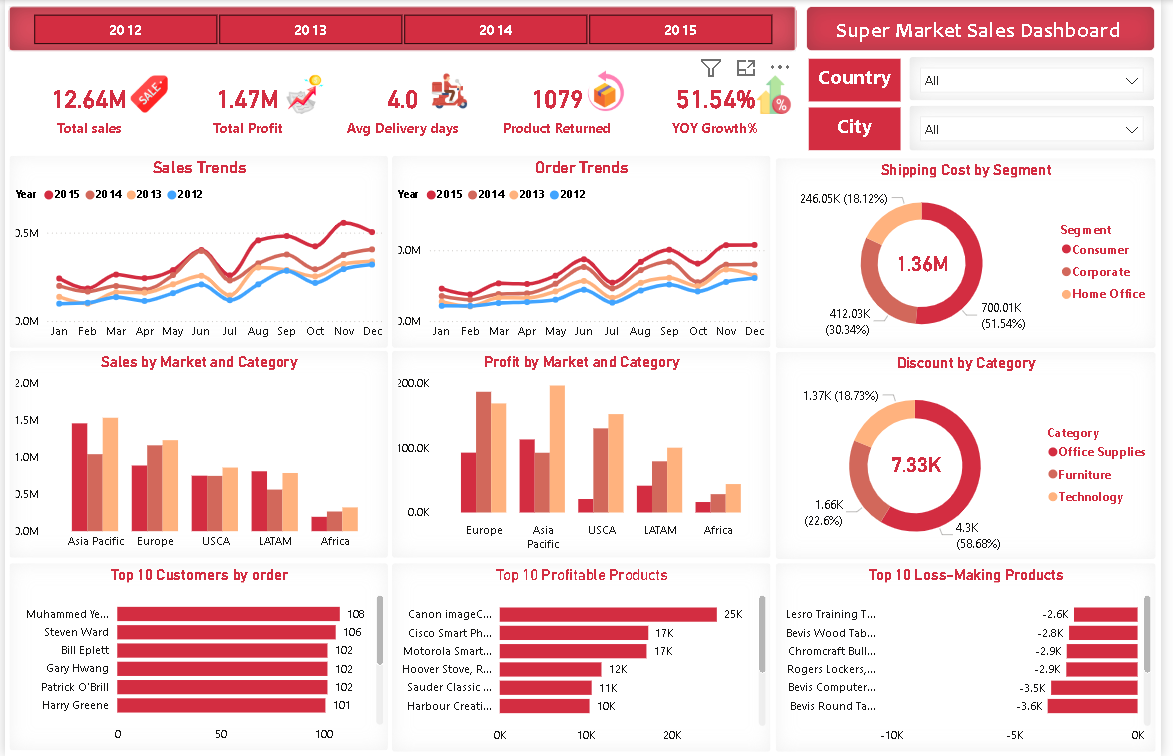

What the dashboard file says about the page in this screenshot:
{"tool":"powerbi","page":{"name":"Sales analysis","canvas":[1300,850],"ordinal":0},"visuals":[{"type":"slicer","fields":{"Values":["Orders.Order Date.Variation.Date Hierarchy.Year"]},"box":[4.2,7,885.4,50.6],"z":0},{"type":"clusteredColumnChart","title":"Sales by Market and Category","fields":{"Category":["Orders.Market"],"Y":["Sum(Orders.Sales)"],"Series":["Orders.Category"]},"box":[4.2,393.5,427.3,234.7],"z":1000},{"type":"clusteredBarChart","title":"Top 10 Profitable Products","fields":{"Y":["Sum(Orders.Profit)"],"Category":["Orders.Product Name"]},"box":[434.3,632.4,427.3,213.6],"z":2000},{"type":"clusteredBarChart","title":"Top 10 Loss-Making Products","fields":{"Y":["Sum(Orders.Profit)"],"Category":["Orders.Product Name"]},"box":[865.7,632.4,428.7,213.6],"z":3000},{"type":"slicer","fields":{"Values":["Orders.City"]},"box":[1016.1,118.1,276.9,52],"z":4000},{"type":"slicer","fields":{"Values":["Orders.Country"]},"box":[1016.1,63.2,276.9,50.6],"z":5000},{"type":"donutChart","title":"Shipping Cost by Segment","fields":{"Category":["Orders.Segment"],"Y":["Sum(Orders.Shipping Cost)"]},"box":[865.7,177.1,428.7,215],"z":6000},{"type":"barChart","title":"Top 10 Customers by order","fields":{"Category":["Orders.Customer Name"],"Y":["CountNonNull(Orders.Order ID)"]},"box":[4.2,632.4,427.3,212.2],"z":7000},{"type":"clusteredColumnChart","title":"Profit by Market and Category","fields":{"Category":["Orders.Market"],"Series":["Orders.Category"],"Y":["Orders.Total profitt"]},"box":[434.3,393.5,427.3,234.7],"z":8000},{"type":"donutChart","title":"Discount by Category","fields":{"Category":["Orders.Category"],"Y":["Sum(Orders.Discount)"]},"box":[866.1,394.9,428.7,234.7],"z":8000,"group":"g1"},{"type":"lineChart","title":"Sales Trends","fields":{"Category":["Orders.Order Date.Variation.Date Hierarchy.Year","Orders.month"],"Y":["Orders.Total saless"],"Series":["Orders.Order Date.Variation.Date Hierarchy.Year"]},"box":[4.2,174.3,427.3,217.8],"z":9000},{"type":"textbox","box":[900.9,7,392.1,50.6],"z":10000},{"type":"card","fields":{"Values":["Orders.Total sales"]},"box":[4.1,74.8,180.9,91.1],"z":11000,"group":"g2"},{"type":"card","fields":{"Values":["Avg(Orders.Delivery days)"]},"box":[360.5,74.8,172.8,91.1],"z":11000,"group":"g4"},{"type":"card","fields":{"Values":["Sum(Orders.Shipping Cost)"]},"box":[986.6,269.8,91.4,52],"z":11000},{"type":"card","fields":{"Values":["Orders.Total Profit"]},"box":[186.4,74.8,172.8,91.1],"z":12000,"group":"g3"},{"type":"lineChart","title":"Order Trends","fields":{"Category":["Orders.Order Date.Variation.Date Hierarchy.Year","Orders.month"],"Y":["CountNonNull(Orders.Order ID)"],"Series":["Orders.Order Date.Variation.Date Hierarchy.Year"]},"box":[434.3,174.3,427.3,217.8],"z":12000},{"type":"group","id":"g1","title":"Group 2","box":[866.1,394.9,428.7,234.7],"z":13000},{"type":"textbox","box":[903.3,66.7,103.4,47.6],"z":14000},{"type":"card","fields":{"Values":["Sum(Returns.Product Returned)"]},"box":[534.6,74.8,172.8,91.1],"z":14000,"group":"g5"},{"type":"card","fields":{"Values":["Orders.YOY Growth%"]},"box":[708.8,74.8,180.9,91.1],"z":15000,"group":"g6"},{"type":"textbox","box":[903.3,121.1,103.4,47.6],"z":15000},{"type":"card","fields":{"Values":["Sum(Orders.Discount)"]},"box":[981.1,492.1,88.5,60.4],"z":15000,"group":"g1"},{"type":"group","id":"g2","title":"Group 1","box":[4.1,74.8,190.3,91.1],"z":16000},{"type":"group","id":"g3","title":"Group 3","box":[186.4,74.8,186.4,91.1],"z":17000},{"type":"group","id":"g4","title":"Group 4","box":[360.5,74.8,182.3,91.1],"z":18000},{"type":"group","id":"g5","title":"Group 5","box":[534.6,74.8,176.8,91.1],"z":19000},{"type":"group","id":"g6","title":"Group 6","box":[708.8,74.8,192.1,91.1],"z":20000},{"type":"image","box":[302,76.2,70.7,61.2],"z":20000,"group":"g3"},{"type":"image","box":[642.1,74.8,69.4,55.8],"z":21000,"group":"g5"},{"type":"image","box":[129.1,80.5,65.3,51.7],"z":21000,"group":"g2"},{"type":"image","box":[830.2,80.5,70.7,53.1],"z":22000,"group":"g6"},{"type":"image","box":[455.7,76.2,87.1,53.1],"z":23000,"group":"g4"}]}

Visuals, with their boxes in screenshot pixels (x1, y1, x2, y2), scaled from the page's 1300x850 canvas onto the 1173x756 screenshot:
slicer - Orders.Order Date.Variation.Date Hierarchy.Year: (x1=4, y1=6, x2=803, y2=51)
"Sales by Market and Category" clusteredColumnChart: (x1=4, y1=350, x2=389, y2=559)
"Top 10 Profitable Products" clusteredBarChart: (x1=392, y1=562, x2=777, y2=752)
"Top 10 Loss-Making Products" clusteredBarChart: (x1=781, y1=562, x2=1168, y2=752)
slicer - Orders.City: (x1=917, y1=105, x2=1167, y2=151)
slicer - Orders.Country: (x1=917, y1=56, x2=1167, y2=101)
"Shipping Cost by Segment" donutChart: (x1=781, y1=158, x2=1168, y2=349)
"Top 10 Customers by order" barChart: (x1=4, y1=562, x2=389, y2=751)
"Profit by Market and Category" clusteredColumnChart: (x1=392, y1=350, x2=777, y2=559)
"Discount by Category" donutChart: (x1=781, y1=351, x2=1168, y2=560)
"Sales Trends" lineChart: (x1=4, y1=155, x2=389, y2=349)
textbox: (x1=813, y1=6, x2=1167, y2=51)
card - Orders.Total sales: (x1=4, y1=67, x2=167, y2=148)
card - Avg(Orders.Delivery days): (x1=325, y1=67, x2=481, y2=148)
card - Sum(Orders.Shipping Cost): (x1=890, y1=240, x2=973, y2=286)
card - Orders.Total Profit: (x1=168, y1=67, x2=324, y2=148)
"Order Trends" lineChart: (x1=392, y1=155, x2=777, y2=349)
"Group 2" group: (x1=781, y1=351, x2=1168, y2=560)
textbox: (x1=815, y1=59, x2=908, y2=102)
card - Sum(Returns.Product Returned): (x1=482, y1=67, x2=638, y2=148)
card - Orders.YOY Growth%: (x1=640, y1=67, x2=803, y2=148)
textbox: (x1=815, y1=108, x2=908, y2=150)
card - Sum(Orders.Discount): (x1=885, y1=438, x2=965, y2=491)
"Group 1" group: (x1=4, y1=67, x2=175, y2=148)
"Group 3" group: (x1=168, y1=67, x2=336, y2=148)
"Group 4" group: (x1=325, y1=67, x2=490, y2=148)
"Group 5" group: (x1=482, y1=67, x2=642, y2=148)
"Group 6" group: (x1=640, y1=67, x2=813, y2=148)
image: (x1=272, y1=68, x2=336, y2=122)
image: (x1=579, y1=67, x2=642, y2=116)
image: (x1=116, y1=72, x2=175, y2=118)
image: (x1=749, y1=72, x2=813, y2=119)
image: (x1=411, y1=68, x2=490, y2=115)
